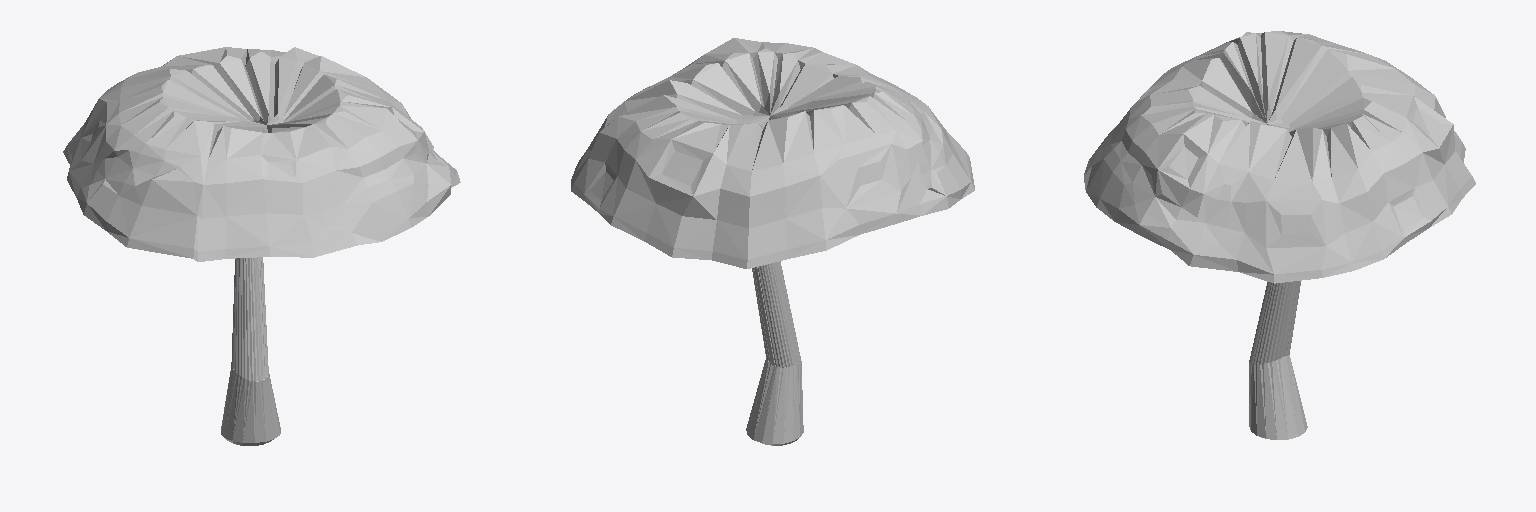
Rendered from shroom.obj.
3 views of the same model, side by side, from view 1: azimuth 30°, elevation 25°; view 2: azimuth 150°, elevation 25°; view 3: azimuth 270°, elevation 25° (orthographic).
Parts seen in each view (by area): view 1: sphere3; view 2: sphere3; view 3: sphere3.
Part boxes in pixels (bbox=[...]): sphere3: bbox=[63, 47, 460, 445]; sphere3: bbox=[571, 38, 974, 445]; sphere3: bbox=[1084, 31, 1475, 439].
Bounding box in the file's own units: 2.45 × 2.35 × 2.36.